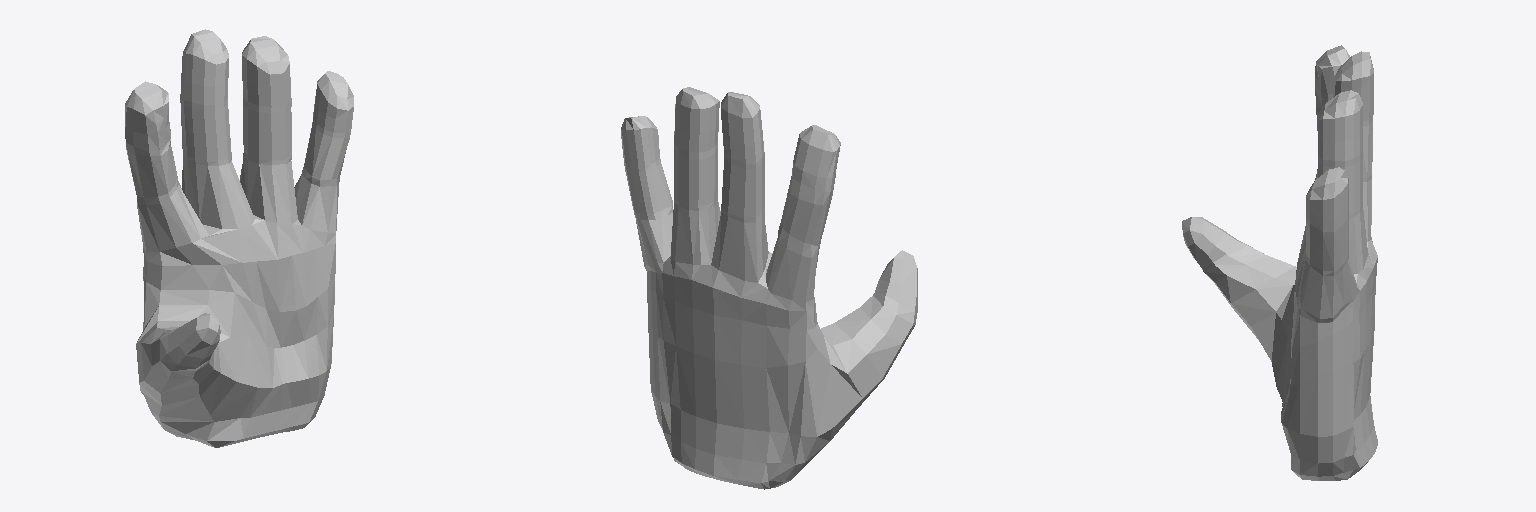
Rendered from mao_5_com_polegar_para_frente.obj.
3 views of the same model, side by side, from view 1: azimuth 30°, elevation 25°; view 2: azimuth 150°, elevation 25°; view 3: azimuth 270°, elevation 25° (orthographic).
Visible parts, largest first — view 1: Box06; view 2: Box06; view 3: Box06.
Part boxes in pixels (x1,y1,x2,y2): Box06: (125,29,353,447); Box06: (621,87,917,489); Box06: (1182,45,1377,480).
Bounding box in the file's own units: 159 × 246 × 113.